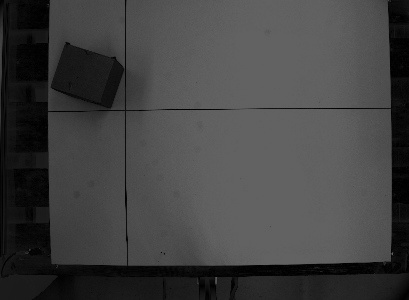b5: (48, 41, 125, 109)
